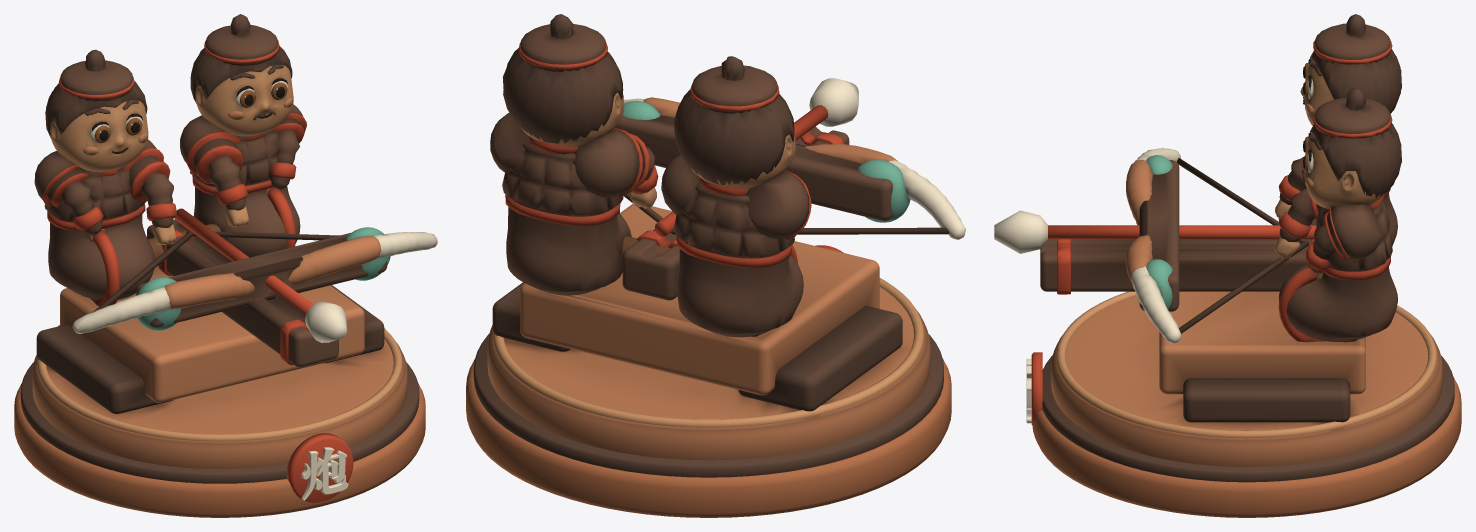
File: red-cannon-terracotta-cartoon-v3.glb
3 renders of one model, left to right at view 1: azimuth 30°, elevation 25°; view 2: azimuth 150°, elevation 25°; view 3: azimuth 270°, elevation 25°, orthographic. The views are drawn at different scales.
Visible parts, largest first — view 1: Red Cannon Qin Terracotta Cartoon V3 - Joined Mesh; view 2: Red Cannon Qin Terracotta Cartoon V3 - Joined Mesh; view 3: Red Cannon Qin Terracotta Cartoon V3 - Joined Mesh.
Part boxes in pixels (bbox=[...]): Red Cannon Qin Terracotta Cartoon V3 - Joined Mesh: bbox=[14, 14, 437, 517]; Red Cannon Qin Terracotta Cartoon V3 - Joined Mesh: bbox=[466, 14, 965, 517]; Red Cannon Qin Terracotta Cartoon V3 - Joined Mesh: bbox=[994, 14, 1461, 517].
Bounding box in the file's own units: 2.2 × 2.1 × 2.35.
